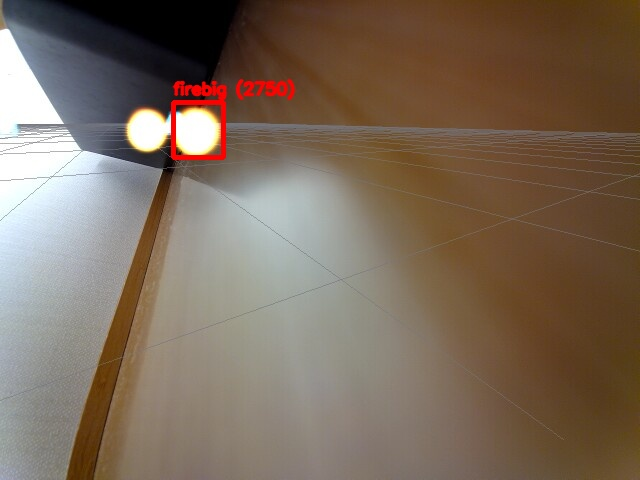firebig: (173, 102, 223, 157)
